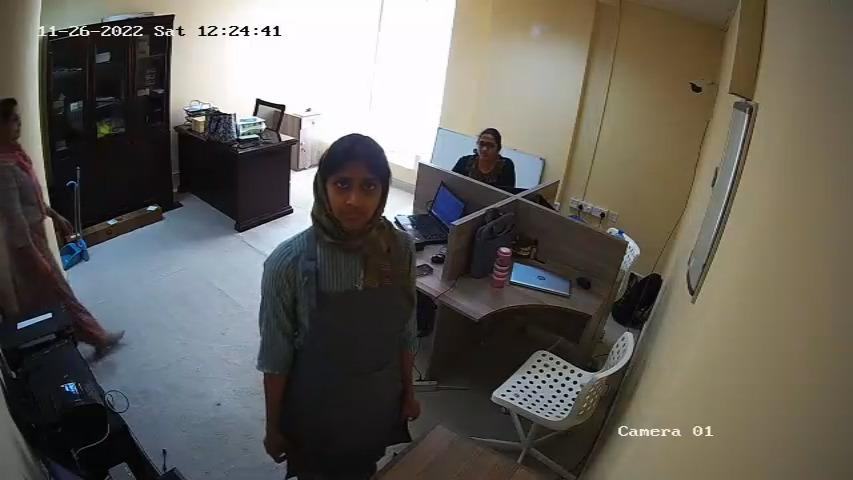apron: (290, 247, 407, 449)
